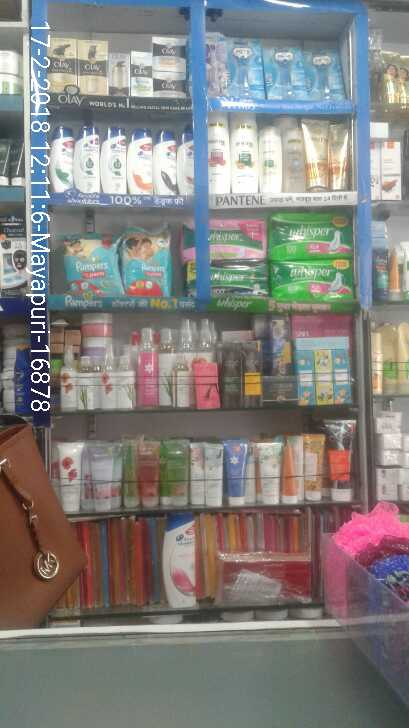venus: (261, 39, 303, 101), (305, 40, 339, 101), (230, 39, 259, 97), (207, 33, 230, 97)
